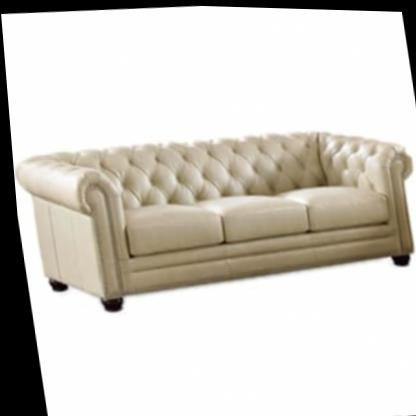Sofa: (7, 111, 416, 326)
